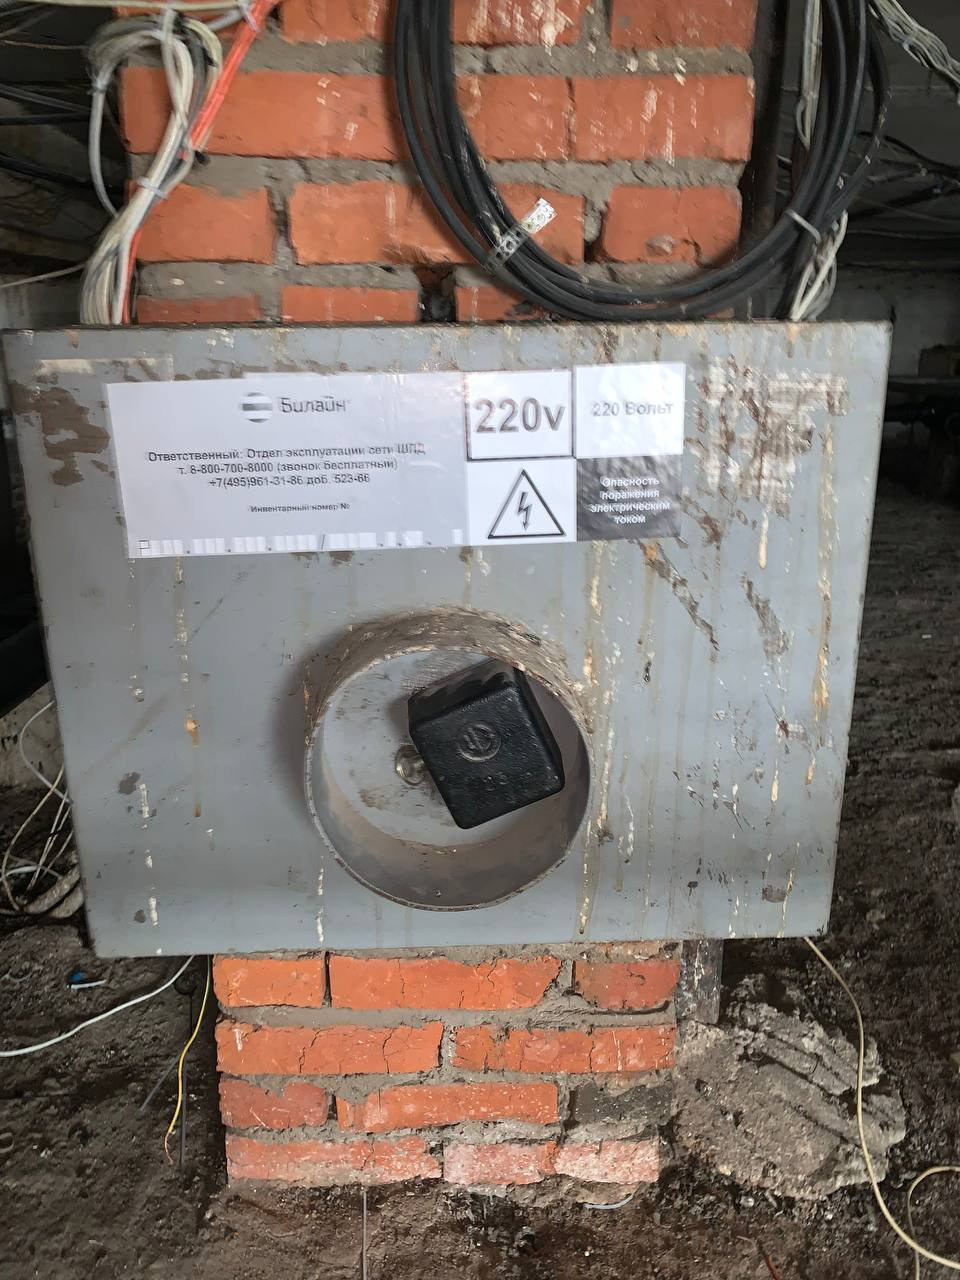shta-3: (5, 318, 897, 961)
